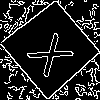X: (26, 24, 83, 79)
